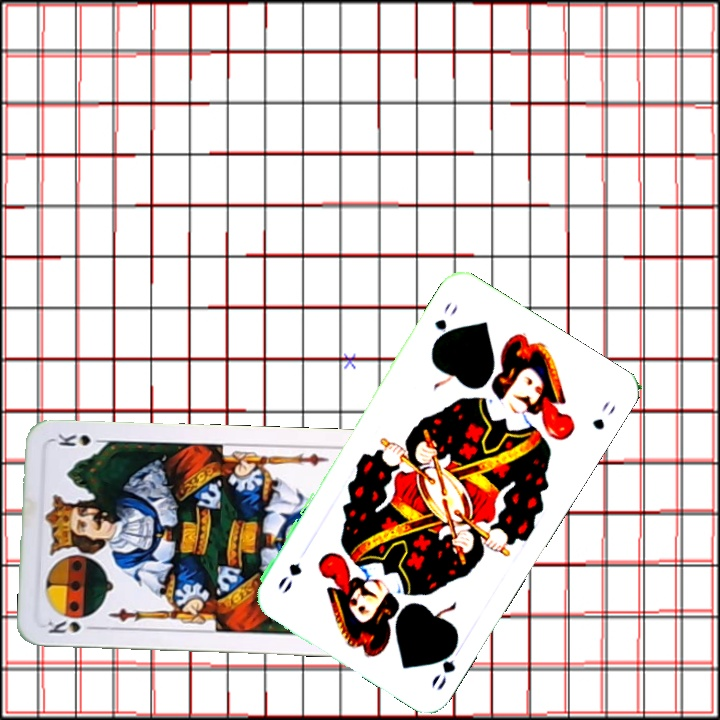GO: (427, 636, 461, 694), (429, 299, 461, 349)
SK: (43, 616, 100, 636)
